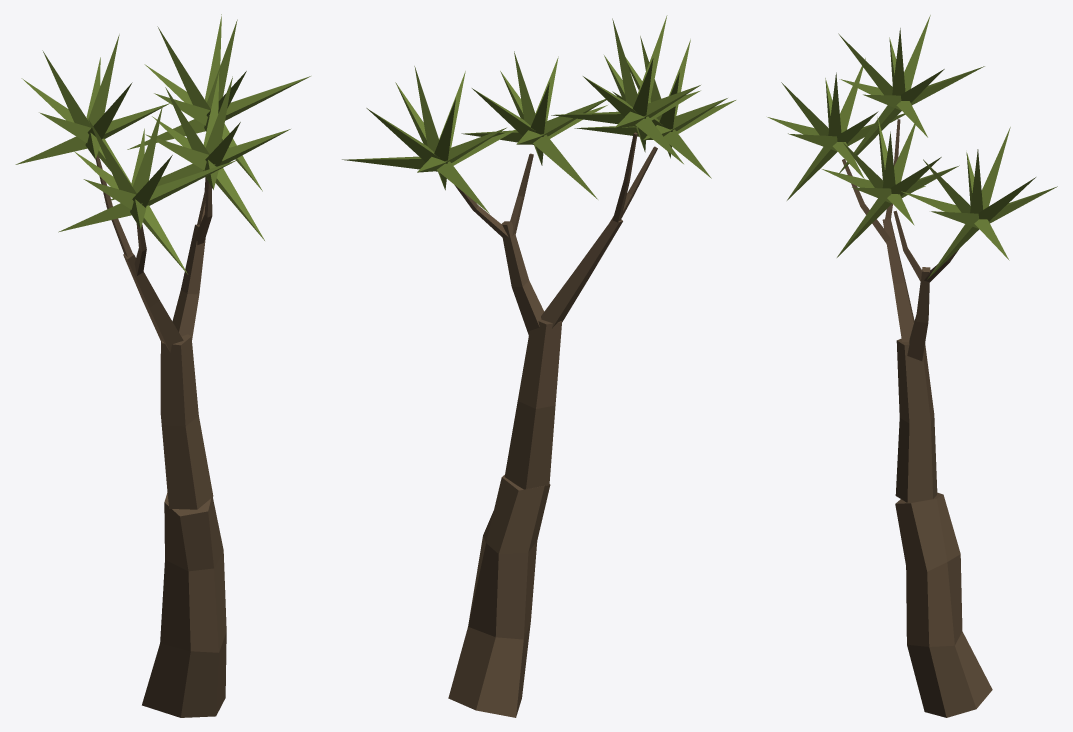
Rendered from Tree_Joshua_A.glb.
3 views of the same model, side by side, from view 1: azimuth 30°, elevation 25°; view 2: azimuth 150°, elevation 25°; view 3: azimuth 270°, elevation 25° (orthographic). The views are drawn at different scales.
Parts seen in each view (by area): view 1: Tree_Joshua_A; view 2: Tree_Joshua_A; view 3: Tree_Joshua_A.
Part boxes in pixels (bbox=[...]): Tree_Joshua_A: bbox=[15, 14, 310, 717]; Tree_Joshua_A: bbox=[342, 15, 735, 717]; Tree_Joshua_A: bbox=[767, 15, 1057, 717].
Size of the model in its own units: 1.72 by 3.81 by 1.59.
